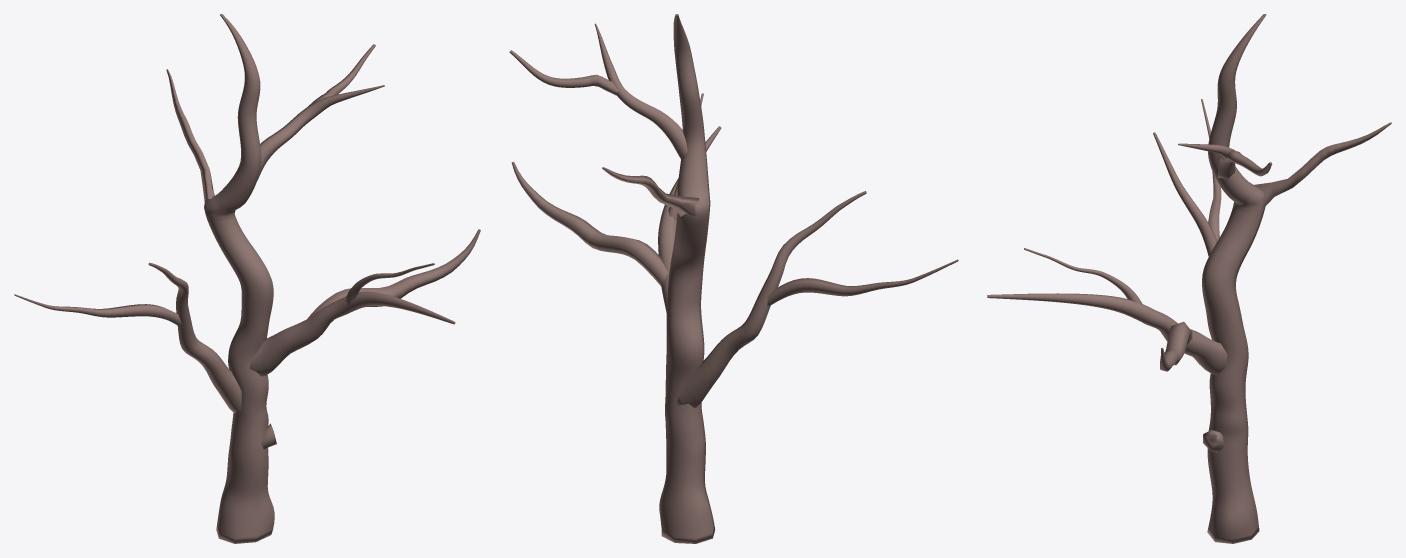
3 views of the same model, side by side, from view 1: azimuth 30°, elevation 25°; view 2: azimuth 150°, elevation 25°; view 3: azimuth 270°, elevation 25° (orthographic). The views are drawn at different scales.
Visible parts, largest first — view 1: Tube; view 2: Tube; view 3: Tube.
Boxes of the visible parts, box(x1,y1,x2,y2) form: Tube: box(14, 14, 480, 543); Tube: box(509, 14, 958, 543); Tube: box(987, 14, 1391, 543).
Size of the model in its own units: 2.22 by 2.42 by 1.72.
1 material, 1 textured.
